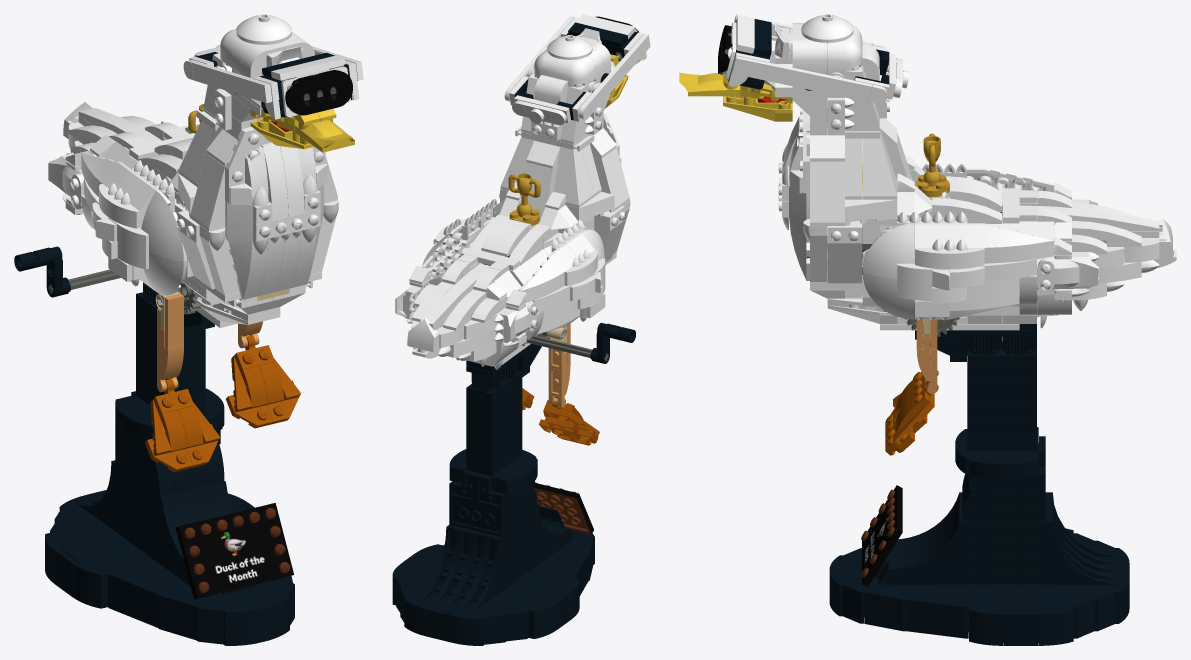
Rendered from duck-of-the-month-v2.glb.
The picture shows the model from 3 angles, left to right: view 1: azimuth 30°, elevation 25°; view 2: azimuth 150°, elevation 25°; view 3: azimuth 270°, elevation 25°; orthographic projection. The views are drawn at different scales.
Parts seen in each view (by area): view 1: m64a4bc45_202412_034953.dat, 41747.dat, 3684c.dat.002, ujas0n_0n_a_bike_2023928_010422.dat, 3684c.dat, 76797.dat.002, 3678b.dat, 30099.dat, 4162.dat, 32059.dat, 41747.dat.002, 30363.dat (+70 smaller); view 2: 3685.dat, 2339.dat.003, m64a4bc45_202412_034953.dat, 41747.dat.002, 3020.dat.008, 4162.dat, 3684c.dat, 85970.dat, 2339.dat.002, 2339.dat.001, 2339.dat, 24309.dat (+72 smaller); view 3: 41748.dat.001, 3684c.dat.003, 30099.dat.003, 4162.dat.001, m64a4bc45_202412_034953.dat, 3684c.dat.001, 30363.dat.001, 76797.dat, 2339.dat, 47456.dat.001, 3685.dat.001, 3678b.dat.001 (+46 smaller).
Boxes of the visible parts, x1,y1,x2,y2 form: m64a4bc45_202412_034953.dat: [175, 503, 293, 599]; 41747.dat: [225, 201, 267, 299]; 3684c.dat.002: [108, 565, 173, 627]; ujas0n_0n_a_bike_2023928_010422.dat: [285, 70, 352, 115]; 3684c.dat: [190, 153, 225, 231]; 76797.dat.002: [141, 189, 186, 261]; 3678b.dat: [157, 586, 211, 639]; 30099.dat: [152, 474, 190, 586]; 4162.dat: [192, 61, 272, 103]; 32059.dat: [225, 127, 325, 203]; 41747.dat.002: [81, 151, 139, 196]; 30363.dat: [176, 210, 215, 289]; 3685.dat: [554, 147, 593, 207]; 2339.dat.003: [456, 534, 504, 616]; m64a4bc45_202412_034953.dat: [533, 482, 593, 534]; 41747.dat.002: [519, 243, 577, 302]; 3020.dat.008: [449, 497, 504, 536]; 4162.dat: [585, 34, 650, 114]; 3684c.dat: [593, 148, 629, 210]; 85970.dat: [420, 263, 489, 326]; 2339.dat.002: [442, 531, 488, 613]; 2339.dat.001: [429, 528, 474, 610]; 2339.dat: [416, 524, 461, 606]; 24309.dat: [481, 218, 529, 256]; 41748.dat.001: [949, 223, 1054, 263]; 3684c.dat.003: [906, 592, 968, 638]; 30099.dat.003: [892, 505, 975, 584]; 4162.dat.001: [732, 56, 871, 101]; m64a4bc45_202412_034953.dat: [861, 485, 902, 586]; 3684c.dat.001: [810, 161, 844, 225]; 30363.dat.001: [827, 220, 862, 283]; 76797.dat: [862, 223, 914, 278]; 2339.dat: [1038, 514, 1122, 584]; 47456.dat.001: [1037, 255, 1097, 292]; 3685.dat.001: [862, 129, 897, 199]; 3678b.dat.001: [864, 585, 905, 631].
Size of the model in its own units: 3.27 by 7.4 by 5.7.
Materials: 23 (4 with a texture image).
